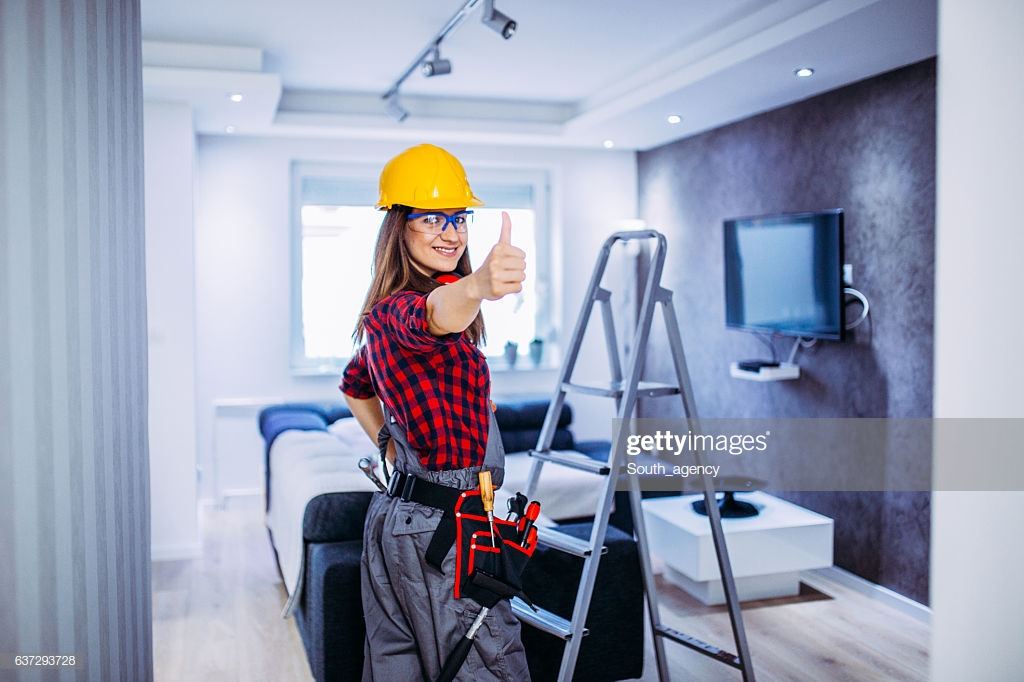thumbsup: (487, 210, 526, 298)
